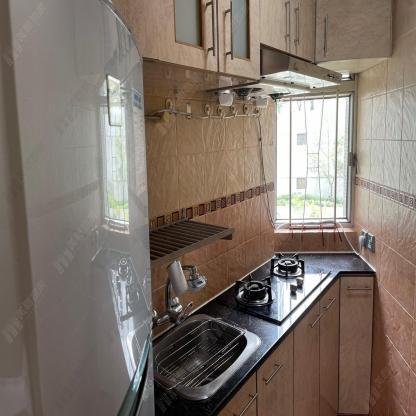Cupboard: (217, 276, 375, 413)
Exhaust Hood: (259, 47, 343, 88)
Faucet: (156, 261, 207, 325)
Fridge: (0, 0, 154, 415)
Sink: (153, 313, 261, 396)
Stove: (224, 256, 334, 325)
